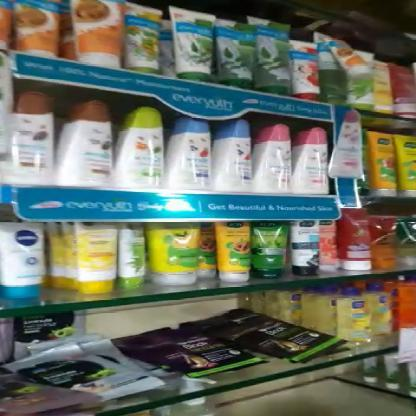Everyuth Naturals Body Lotion Nourishing Cocoa 200ml: (58, 99, 115, 188), (12, 92, 57, 186)
Everyuth Naturals Body Lotion Rejuvenating Flora 200ml: (256, 124, 292, 194), (296, 124, 332, 193)
Everyuth Naturals Body Lotion Soothing Citrus 200ml: (114, 105, 162, 190)
Everyuth Naturals Body Lotion Sun Care Berries SPF 15 200ml: (166, 120, 212, 192), (215, 121, 254, 196)
